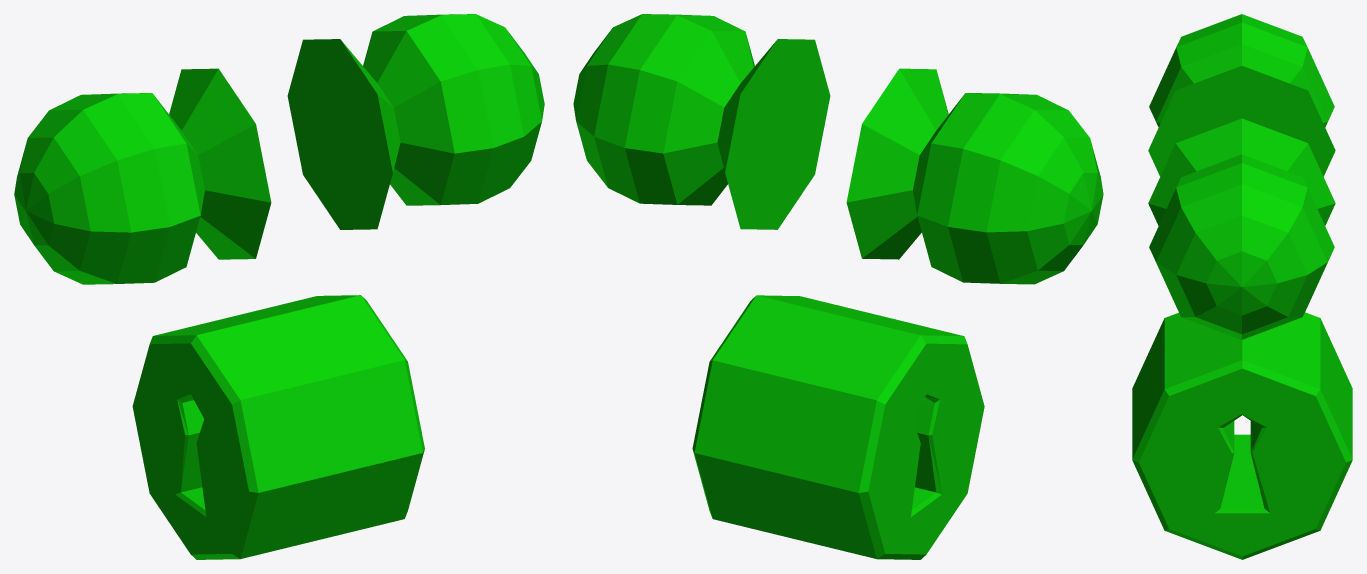
File: door_knob_and_keyhole.fbx
3 renders of one model, left to right at view 1: azimuth 30°, elevation 25°; view 2: azimuth 150°, elevation 25°; view 3: azimuth 270°, elevation 25°, orthographic. The views are drawn at different scales.
Visible parts, largest first — view 1: knob; view 2: knob; view 3: knob.
Part boxes in pixels (x1,y1,x2,y2): knob: [14, 14, 544, 559]; knob: [573, 14, 1103, 559]; knob: [1132, 14, 1352, 559].
Size of the model in its own units: 15.02 by 13.76 by 6.36.
